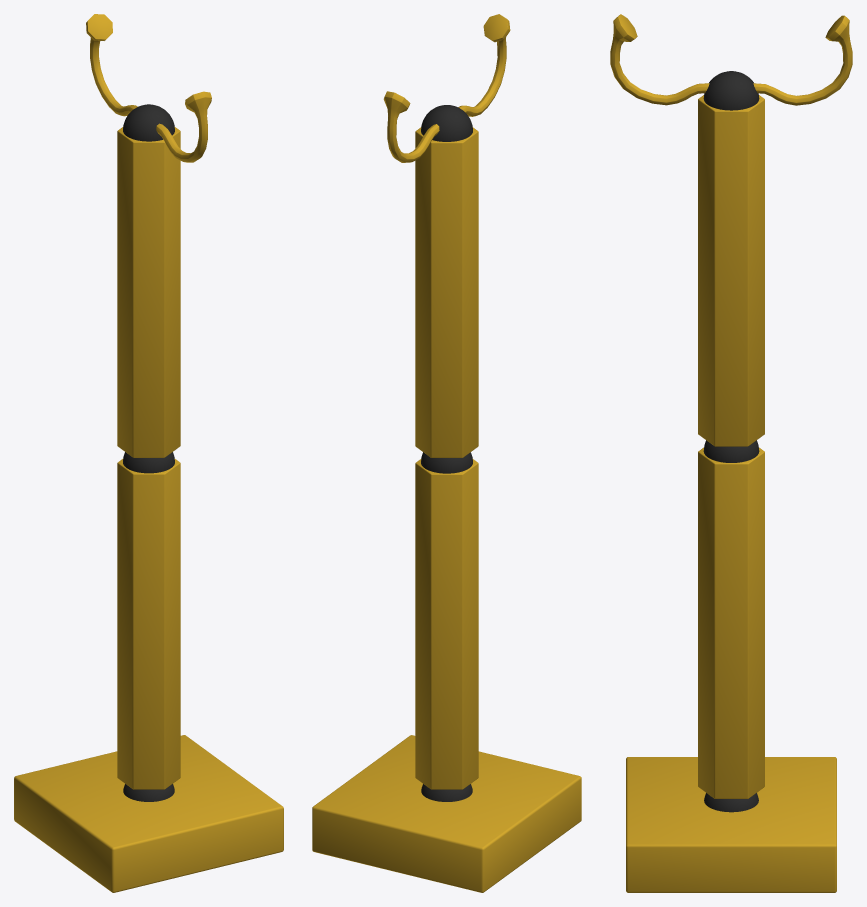
File: robot_arm.fbx
The picture shows the model from 3 angles, left to right: view 1: azimuth 30°, elevation 25°; view 2: azimuth 150°, elevation 25°; view 3: azimuth 270°, elevation 25°; orthographic projection. The views are drawn at different scales.
Visible parts, largest first — view 1: base, Cylinder.002, Cylinder, gripper r, gripper l, wrist, elbow, shoulder; view 2: base, Cylinder.002, Cylinder, gripper l, gripper r, wrist, elbow, shoulder; view 3: base, Cylinder, Cylinder.002, gripper l, gripper r, wrist, elbow, shoulder.
Part boxes in pixels (box(x1,y1,x2,y2)): base: box(14, 735, 283, 892); Cylinder.002: box(117, 459, 180, 789); Cylinder: box(117, 127, 180, 457); gripper r: box(86, 14, 137, 116); gripper l: box(156, 91, 211, 162); wrist: box(123, 104, 174, 141); elbow: box(123, 452, 174, 473); shoulder: box(123, 784, 174, 801); base: box(312, 735, 581, 892); Cylinder.002: box(415, 459, 478, 789); Cylinder: box(415, 127, 478, 457); gripper l: box(458, 14, 510, 116); gripper r: box(383, 91, 439, 162); wrist: box(421, 105, 472, 141); elbow: box(421, 452, 472, 473); shoulder: box(421, 784, 472, 801); base: box(626, 757, 836, 892); Cylinder: box(698, 95, 764, 446); Cylinder.002: box(698, 447, 764, 798); gripper l: box(610, 14, 709, 105); gripper r: box(753, 15, 852, 105); wrist: box(703, 71, 759, 110); elbow: box(703, 440, 759, 462); shoulder: box(704, 793, 758, 812).
Bounding box in the file's own units: 1.14 × 4.96 × 1.31.
